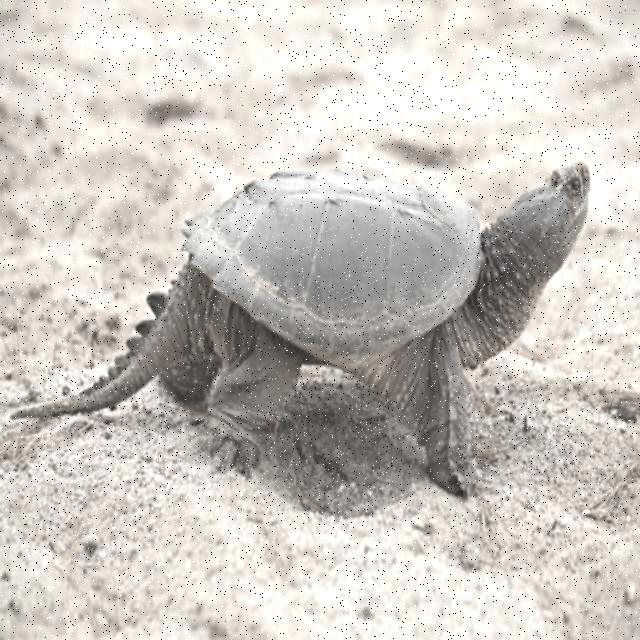tortoise: (19, 142, 594, 526)
